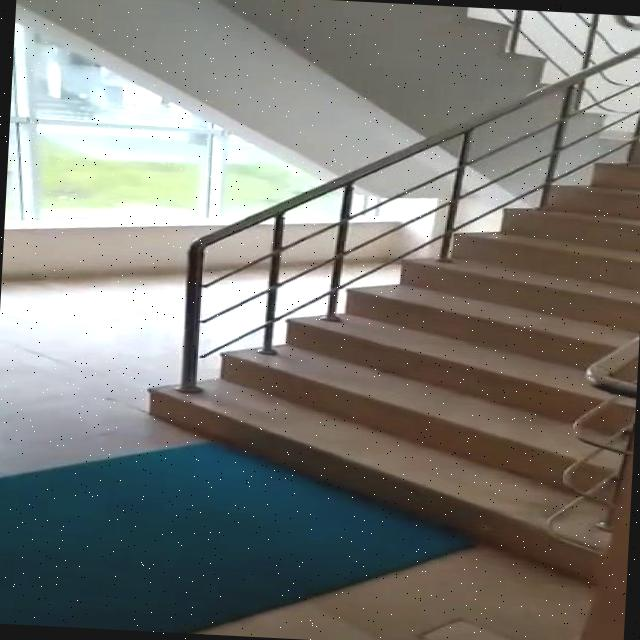stairs: (138, 110, 640, 576)
